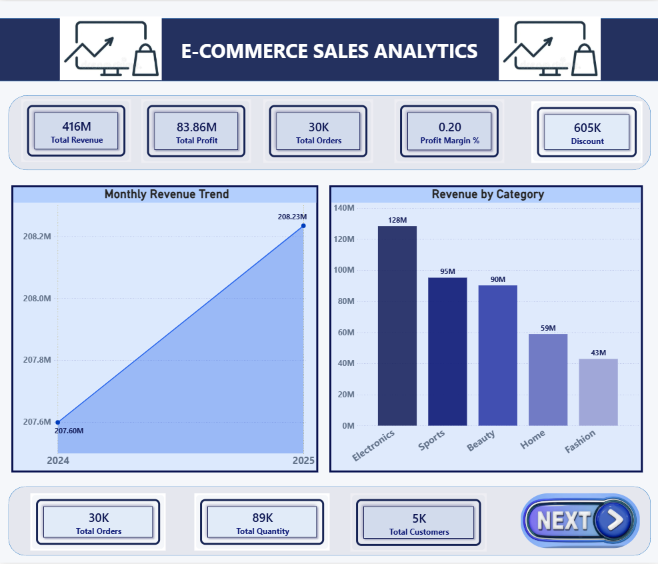

The page's visual inventory and layout, read from the dashboard file:
{"tool":"powerbi","page":{"name":"Page_1","canvas":[2000,1700],"ordinal":0},"visuals":[{"type":"cardVisual","fields":{"Data":["Customers.Total Revenue"]},"box":[66.4,297.5,332.5,190],"z":0},{"type":"cardVisual","fields":{"Data":["Customers.Total Profit"]},"box":[431.4,297.5,332.5,192.5],"z":1000},{"type":"cardVisual","fields":{"Data":["Customers.Total Orders"]},"box":[798.9,297.5,332.5,192.5],"z":2000},{"type":"cardVisual","fields":{"Data":["Customers.Profit Margin %"]},"box":[1197.2,298.3,333.3,193.3],"z":3000},{"type":"lineChart","title":"Monthly Revenue Trend","fields":{"Category":["Orders.order_date.Variation.Date Hierarchy.Year","Orders.order_date.Variation.Date Hierarchy.Quarter","Orders.order_date.Variation.Date Hierarchy.Month","Orders.order_date.Variation.Date Hierarchy.Day"],"Y":["Customers.Total Revenue"]},"box":[36.7,556.7,930,870],"z":4000},{"type":"clusteredColumnChart","title":"Revenue by Category","fields":{"Category":["Products.category"],"Y":["Customers.Total Revenue"]},"box":[1000,556.7,950,870],"z":5000},{"type":"shape","box":[0,50,2000,190],"z":6000},{"type":"cardVisual","fields":{"Data":["Customers.Total Customers"]},"box":[1063.3,1490,413.3,176.7],"z":7000},{"type":"shape","box":[26.7,283.3,1946.7,226.7],"z":8000},{"type":"shape","box":[26.7,1470,1946.7,210],"z":9000},{"type":"image","box":[1580,1490,363.3,166.7],"z":10000},{"type":"cardVisual","fields":{"Data":["Customers.Total Orders"]},"box":[93.3,1490,410,173.3],"z":11000},{"type":"cardVisual","fields":{"Data":["Customers.Total Quantity"]},"box":[590,1490,410,173.3],"z":12000},{"type":"cardVisual","fields":{"Data":["Sum(Order_Items.discount)"]},"box":[1613.3,303.3,336.7,186.7],"z":13000},{"type":"image","box":[173.3,46.7,330,193.3],"z":14000},{"type":"image","box":[1503.3,46.7,330,193.3],"z":15000}]}

Visuals, with their boxes in screenshot pixels (x1, y1, x2, y2), scaled from the page's 2000x1700 canvas onto the 658x564 screenshot:
cardVisual - Customers.Total Revenue: 22 99 131 162
cardVisual - Customers.Total Profit: 142 99 251 163
cardVisual - Customers.Total Orders: 263 99 372 163
cardVisual - Customers.Profit Margin %: 394 99 504 163
"Monthly Revenue Trend" lineChart: 12 185 318 473
"Revenue by Category" clusteredColumnChart: 329 185 642 473
shape: 0 17 657 80
cardVisual - Customers.Total Customers: 350 494 486 553
shape: 9 94 649 169
shape: 9 488 649 557
image: 520 494 639 550
cardVisual - Customers.Total Orders: 31 494 166 552
cardVisual - Customers.Total Quantity: 194 494 329 552
cardVisual - Sum(Order_Items.discount): 531 101 642 163
image: 57 15 166 80
image: 495 15 603 80
